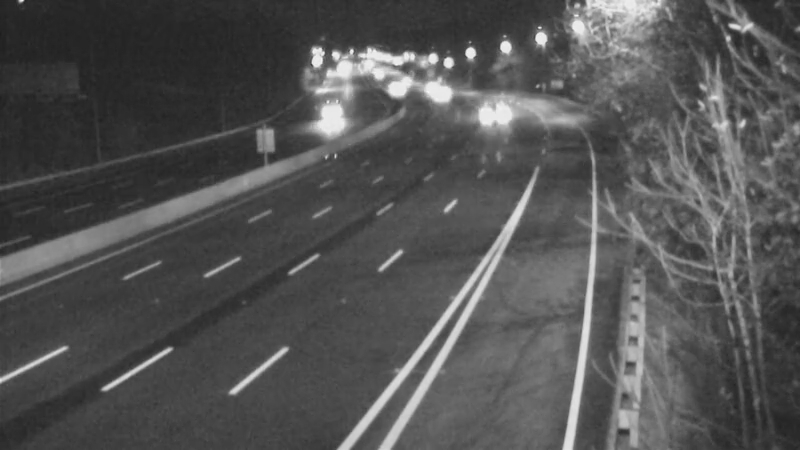vehicle: (405, 65, 455, 115), (370, 65, 420, 115), (413, 70, 463, 120), (474, 84, 524, 134), (301, 90, 351, 140)
